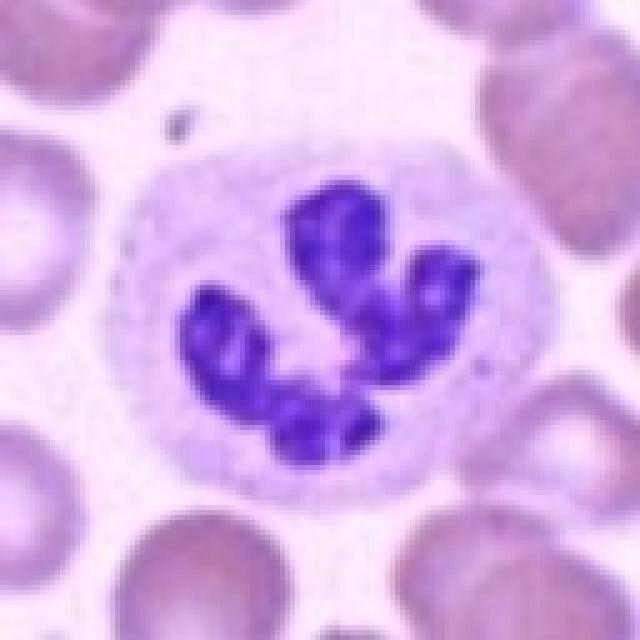neutro: (122, 171, 546, 508)
